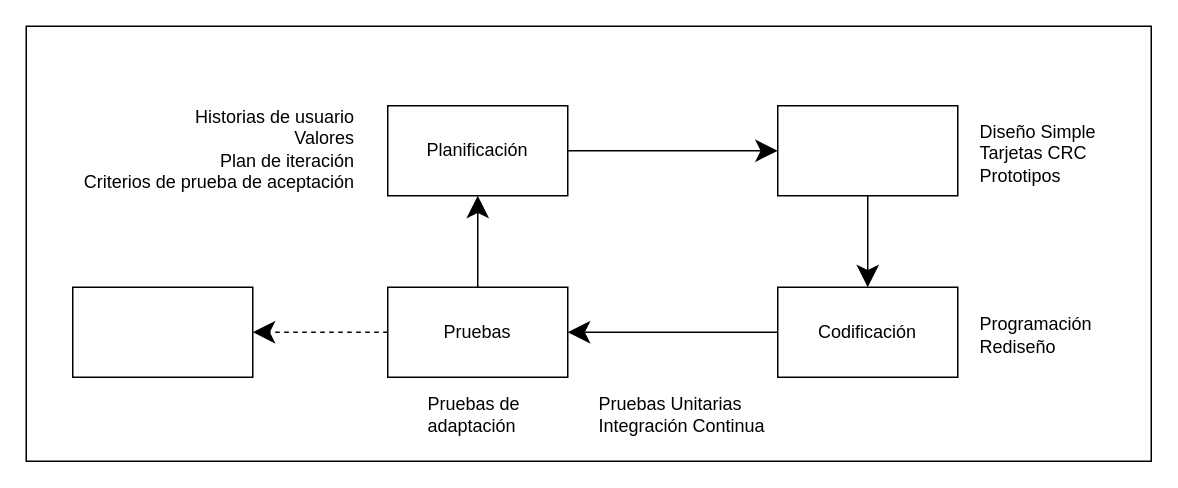
The diagram is 1178 pixels wide and 488 high, and some of its shapes have lost their labels. The shapes that lost their labels are listed below. From the top down, each one's centre as x and y in pixels, then its label:
At (867,150): "Diseño".
At (162,331): "Lanzamiento".
